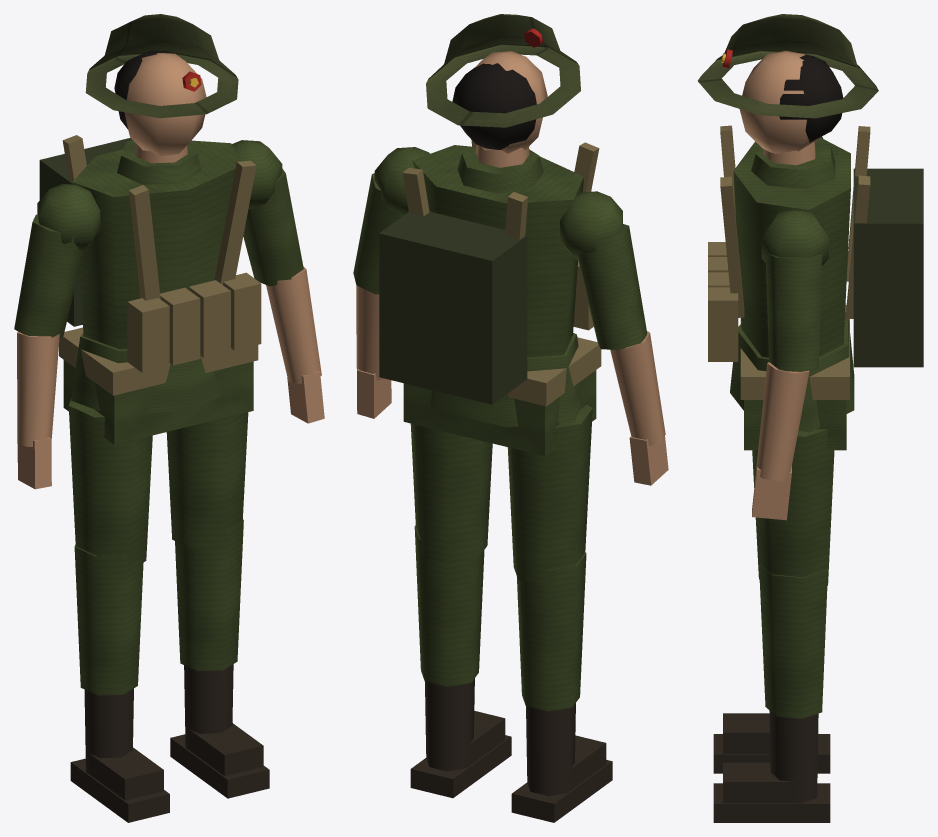
File: pavn_infantry_lod2.glb
The picture shows the model from 3 angles, left to right: view 1: azimuth 30°, elevation 25°; view 2: azimuth 150°, elevation 25°; view 3: azimuth 270°, elevation 25°; orthographic projection.
Visible parts, largest first — view 1: PAVN_Infantry; view 2: PAVN_Infantry; view 3: PAVN_Infantry.
Part boxes in pixels (x1,y1,x2,y2): PAVN_Infantry: [14, 14, 324, 822]; PAVN_Infantry: [353, 14, 668, 822]; PAVN_Infantry: [698, 14, 923, 822].
Size of the model in its own units: 0.7535 by 1.81 by 0.4848.
Materials: 9 (2 with a texture image).
